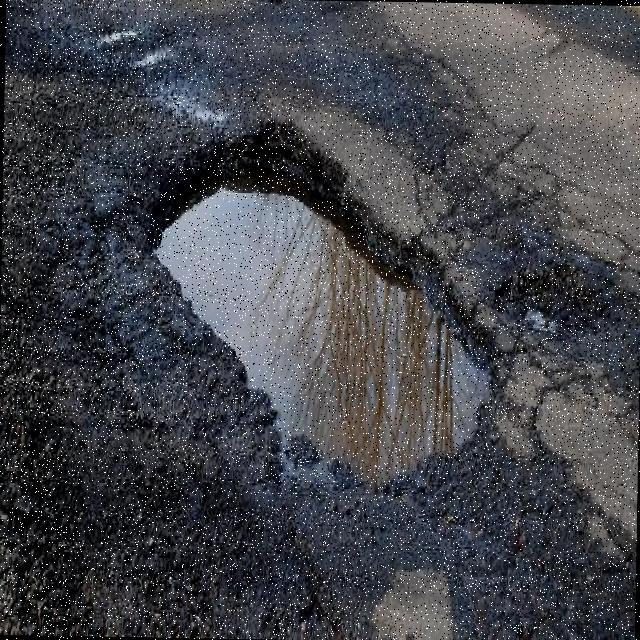Pothole: (143, 121, 491, 491), (494, 255, 640, 370)
